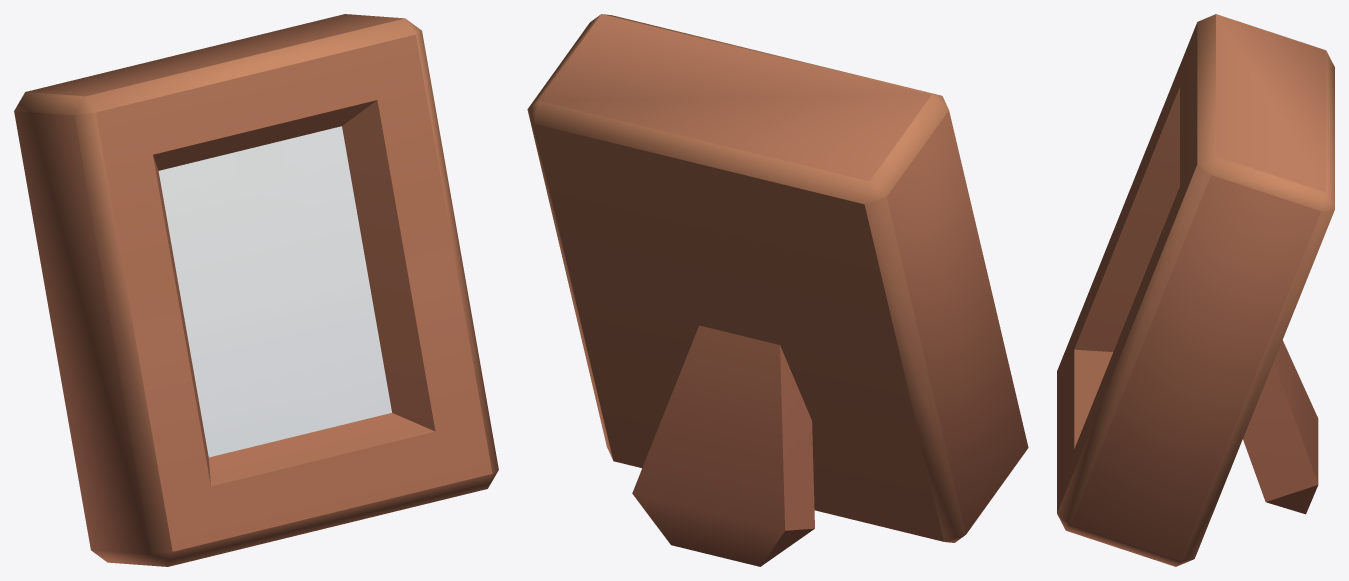
The model's file is kkf.pictureframe_standing_a.glb.
3 views of the same model, side by side, from view 1: azimuth 30°, elevation 25°; view 2: azimuth 150°, elevation 25°; view 3: azimuth 270°, elevation 25° (orthographic). The views are drawn at different scales.
Parts seen in each view (by area): view 1: pictureframe_standing_A; view 2: pictureframe_standing_A; view 3: pictureframe_standing_A.
Boxes of the visible parts, x1,y1,x2,y2 form: pictureframe_standing_A: (14, 14, 498, 566); pictureframe_standing_A: (527, 14, 1028, 566); pictureframe_standing_A: (1057, 14, 1334, 566).
Size of the model in its own units: 0.1789 by 0.2213 by 0.1357.
1 material, 1 textured.
